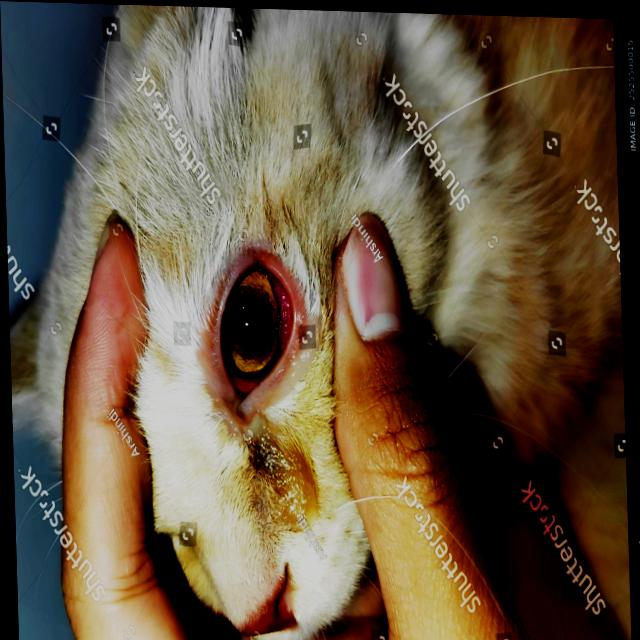eye_infection: (222, 266, 288, 398)
